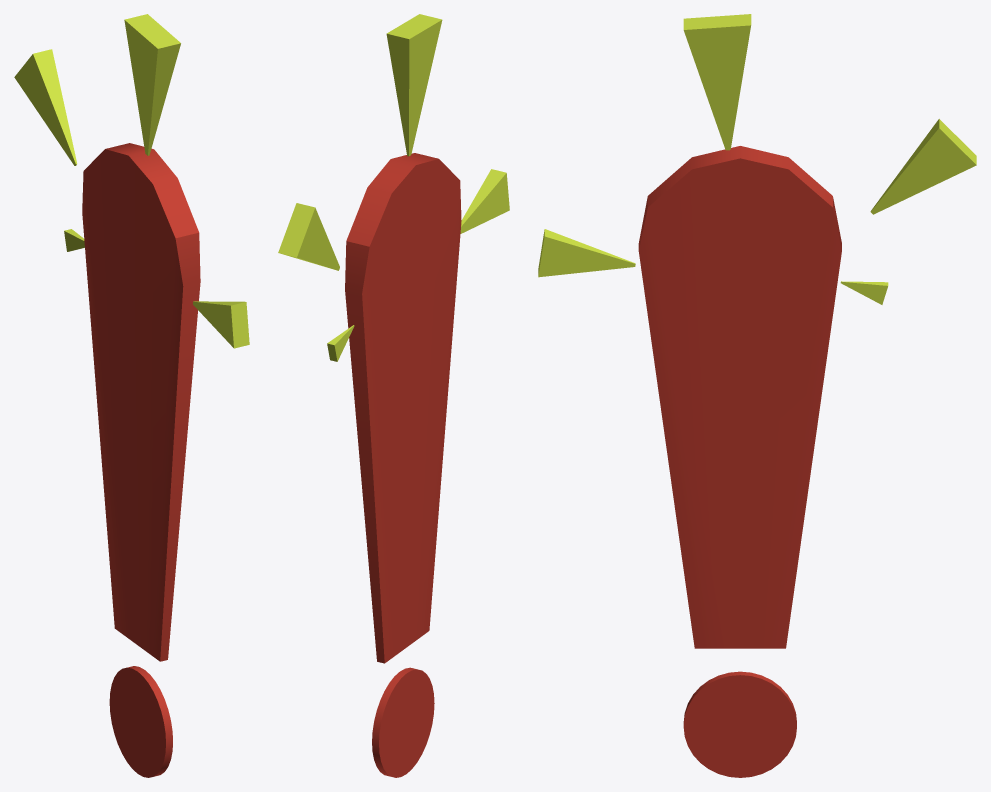
The model's file is Anim_Enemigo_Exclamacion_V3.fbx.
3 renders of one model, left to right at view 1: azimuth 30°, elevation 25°; view 2: azimuth 150°, elevation 25°; view 3: azimuth 270°, elevation 25°, orthographic. The views are drawn at different scales.
Visible parts, largest first — view 1: exclamation; view 2: exclamation; view 3: exclamation.
Boxes of the visible parts, <box> form: exclamation: <box>14,14,249,777</box>; exclamation: <box>278,14,509,777</box>; exclamation: <box>538,14,976,777</box>.
Bounding box in the file's own units: 3.73 × 104 × 54.86.
